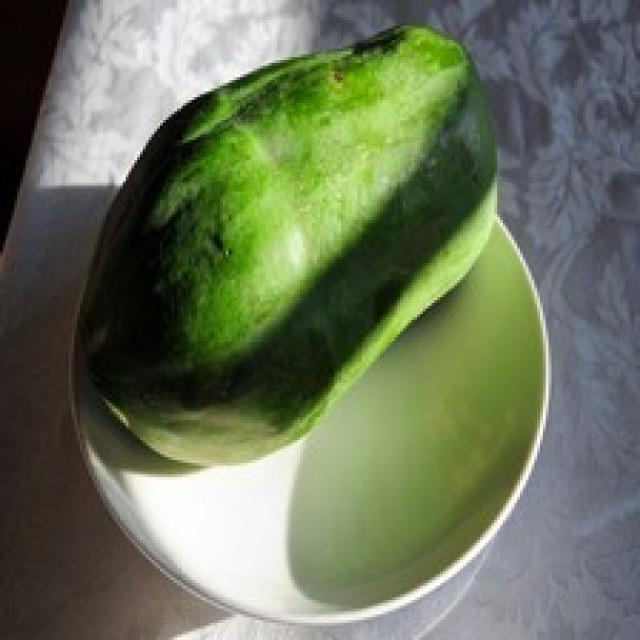Pepaya unrippen: (87, 18, 496, 469)
